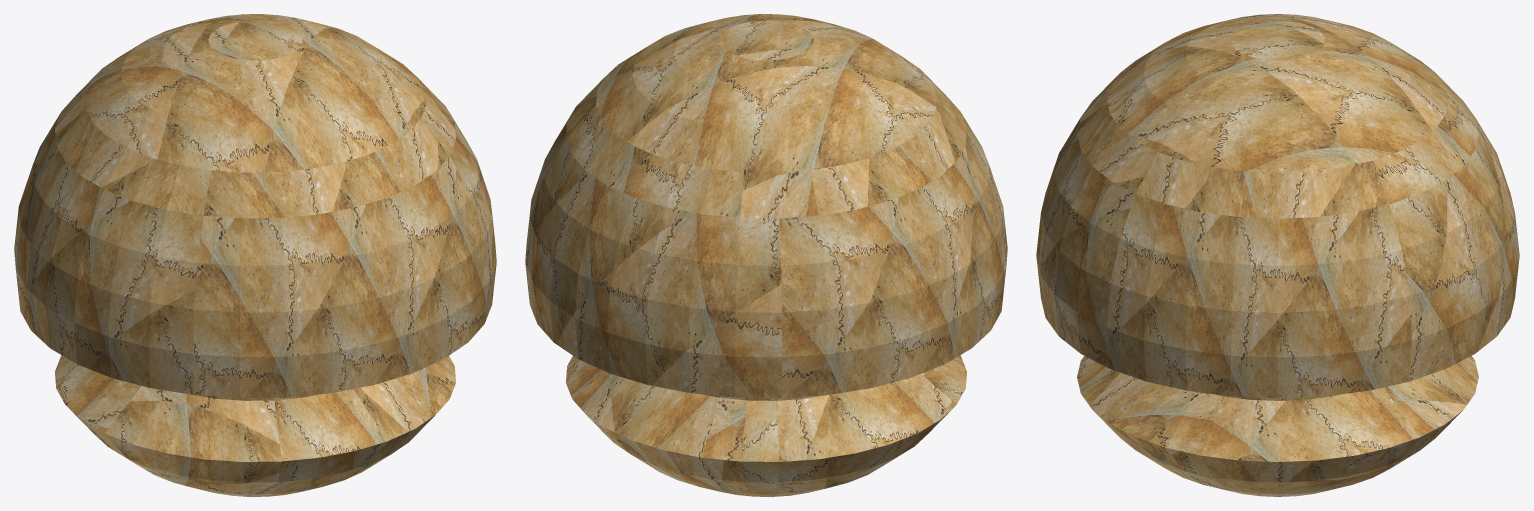
File: PillLevel.fbx
3 views of the same model, side by side, from view 1: azimuth 30°, elevation 25°; view 2: azimuth 150°, elevation 25°; view 3: azimuth 270°, elevation 25° (orthographic).
Visible parts, largest first — view 1: Skull; view 2: Skull; view 3: Skull.
Boxes of the visible parts, x1=… form: Skull: x1=14, y1=14, x2=496, y2=496; Skull: x1=525, y1=14, x2=1007, y2=496; Skull: x1=1036, y1=14, x2=1519, y2=496.
Size of the model in its own units: 2755 by 2755 by 2755.
Materials: 3 (2 with a texture image).
